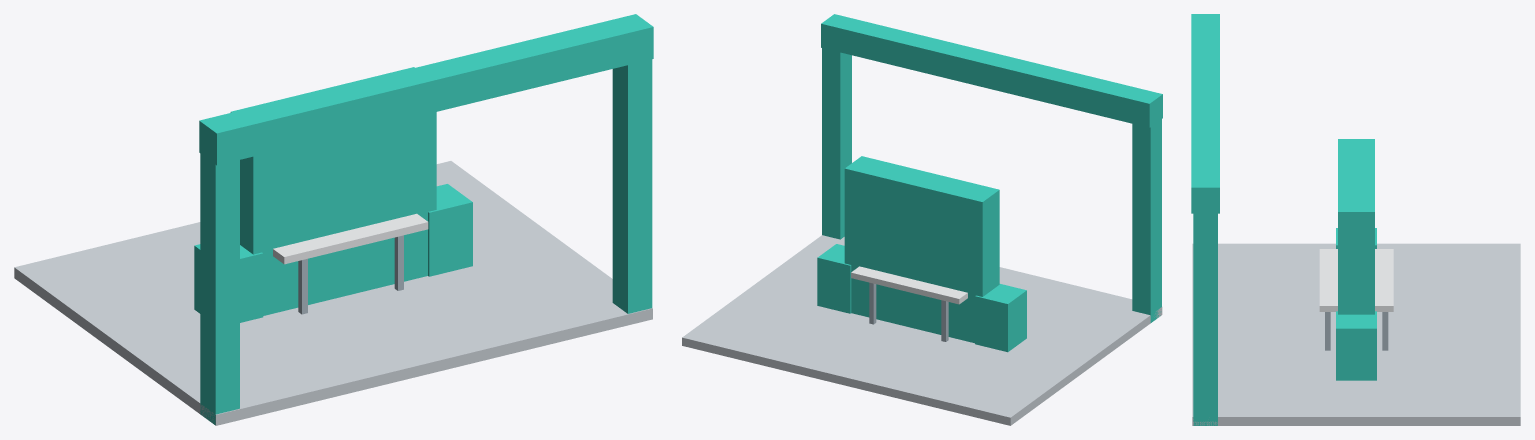
3 views of the same model, side by side, from view 1: azimuth 30°, elevation 25°; view 2: azimuth 150°, elevation 25°; view 3: azimuth 270°, elevation 25° (orthographic). The views are drawn at different scales.
Parts seen in each view (by area): view 1: Exhibition Booth Concept; view 2: Exhibition Booth Concept; view 3: Exhibition Booth Concept.
Part boxes in pixels (bbox=[...]): Exhibition Booth Concept: bbox=[14, 14, 653, 425]; Exhibition Booth Concept: bbox=[682, 14, 1162, 425]; Exhibition Booth Concept: bbox=[1191, 14, 1520, 425].
Size of the model in its own units: 5 by 3.2 by 4.02.
